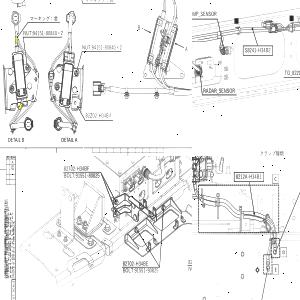PartNumber: (92, 43, 117, 51), (76, 172, 100, 180), (122, 259, 149, 266), (86, 112, 112, 119), (32, 29, 57, 36), (63, 165, 90, 171), (244, 47, 270, 53), (134, 268, 159, 274), (236, 174, 262, 179)
